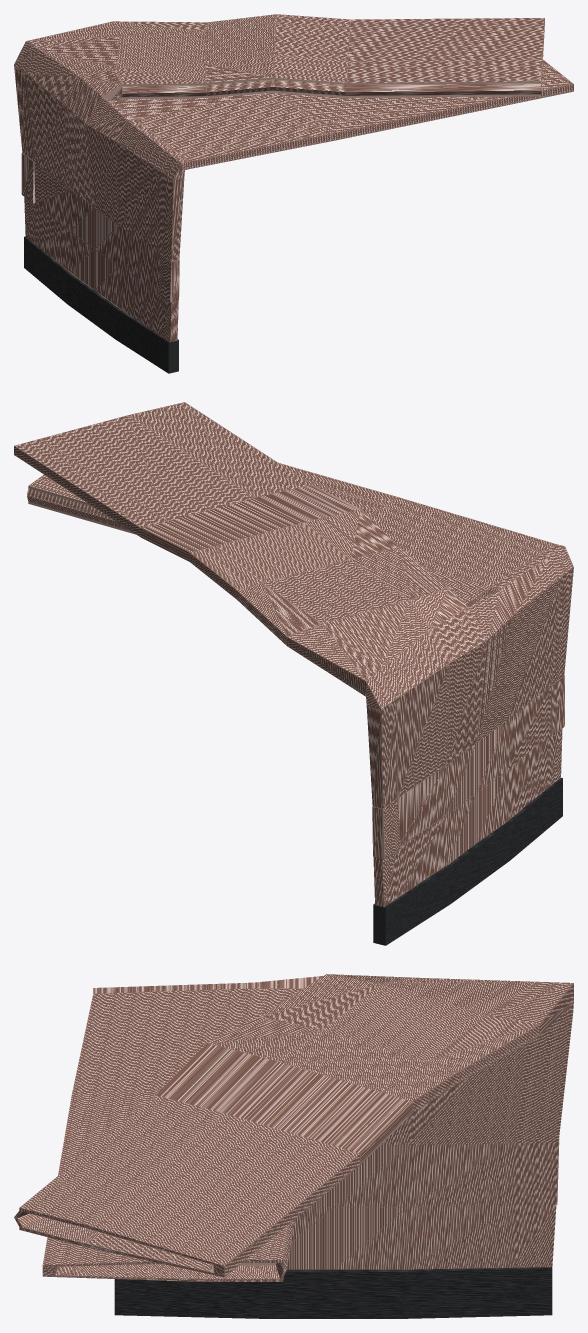
Rendered from pantalones4.fbx.
The picture shows the model from 3 angles, top to bottom: view 1: azimuth 30°, elevation 25°; view 2: azimuth 150°, elevation 25°; view 3: azimuth 270°, elevation 25°; orthographic projection. The views are drawn at different scales.
Visible parts, largest first — view 1: pants4:Mesh; view 2: pants4:Mesh; view 3: pants4:Mesh.
Boxes of the visible parts, <box> form: pants4:Mesh: <box>14,14,573,373</box>; pants4:Mesh: <box>14,402,573,945</box>; pants4:Mesh: <box>14,974,573,1318</box>.
Size of the model in its own units: 3.37 by 1.83 by 2.56.
2 materials, 2 textured.
